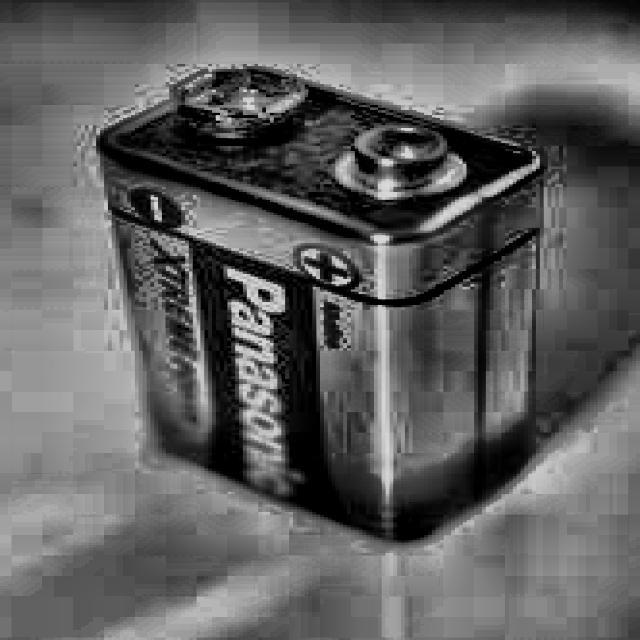Battery: (108, 69, 536, 540)
